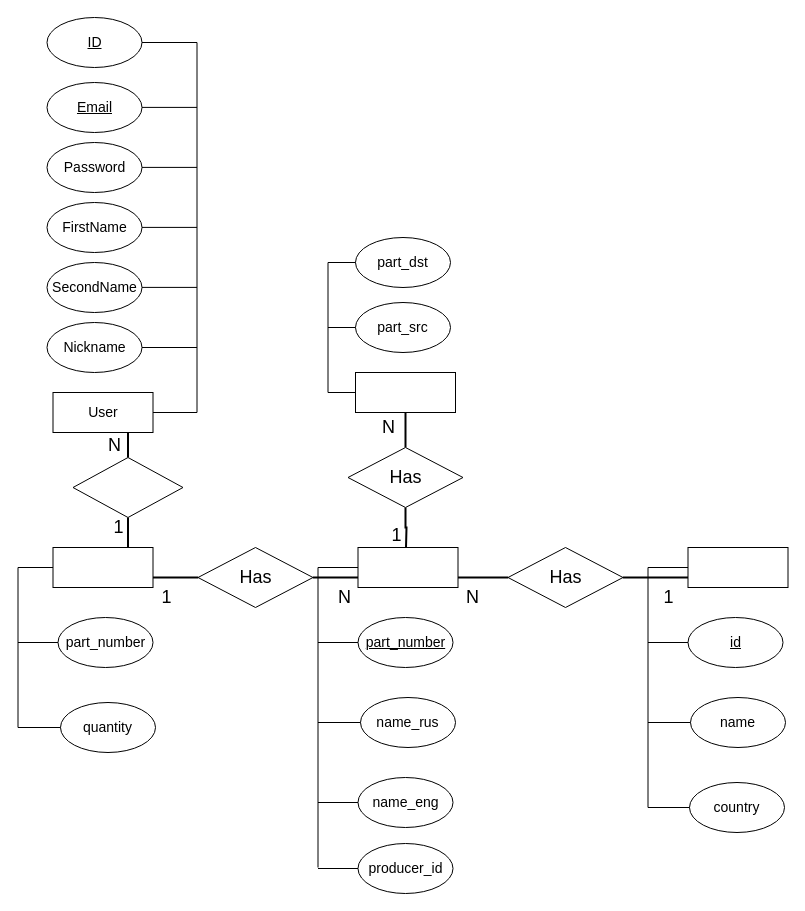
Some shapes in this 805 by 911 pixel diagram are drawn without their labels. The box of each missing label's shape, as (x1, y1, x2, y2) in pixels:
Действие над деталь: (72, 456, 183, 518)
Деталь: (357, 546, 458, 588)
Замена: (354, 372, 456, 412)
Производитель: (687, 546, 788, 588)
Склад: (52, 546, 153, 588)
